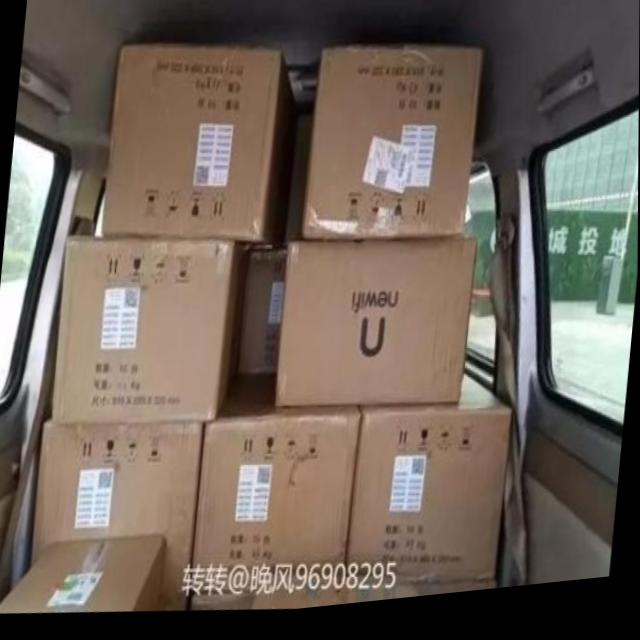box: (100, 45, 299, 254), (192, 375, 362, 596), (51, 237, 247, 427), (345, 382, 511, 593), (304, 55, 486, 244), (26, 418, 203, 611), (278, 244, 479, 410), (236, 122, 315, 377), (0, 535, 173, 612), (249, 579, 418, 611), (414, 588, 498, 605), (192, 593, 255, 612)
